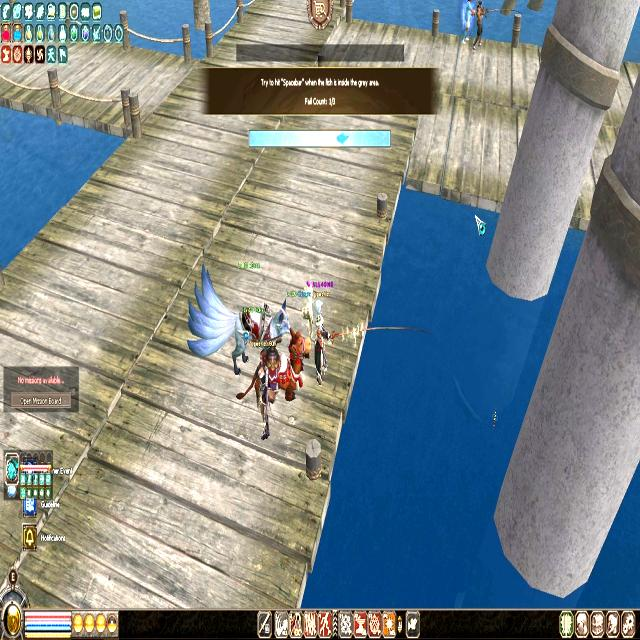box: (323, 131, 341, 149)
fishes: (336, 131, 350, 145)
